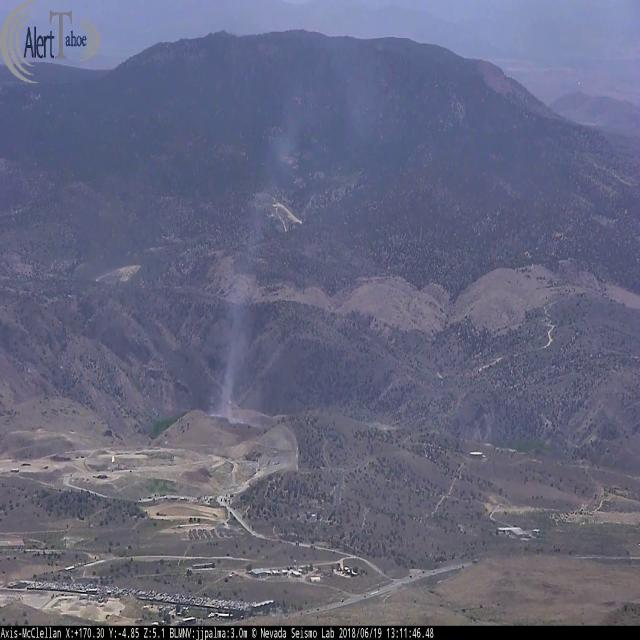smoke: (205, 44, 378, 435)
